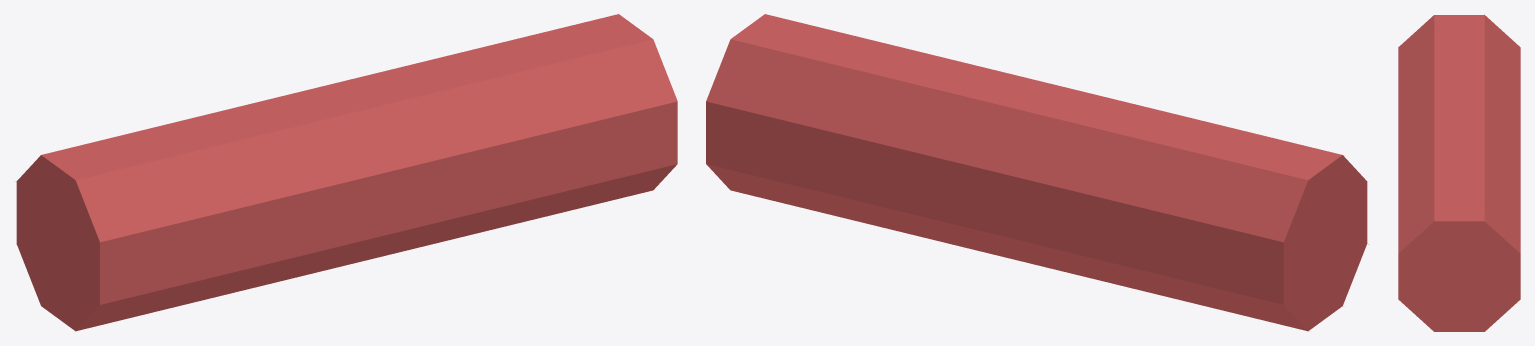
The model's file is objcol_fl_log.glb.
3 renders of one model, left to right at view 1: azimuth 30°, elevation 25°; view 2: azimuth 150°, elevation 25°; view 3: azimuth 270°, elevation 25°, orthographic. The views are drawn at different scales.
Parts seen in each view (by area): view 1: fl_log_col; view 2: fl_log_col; view 3: fl_log_col.
Part boxes in pixels (bbox=[...]): fl_log_col: bbox=[16, 14, 677, 331]; fl_log_col: bbox=[706, 14, 1368, 331]; fl_log_col: bbox=[1398, 14, 1520, 331].
Bounding box in the file's own units: 2.01 × 0.5001 × 0.5001.
